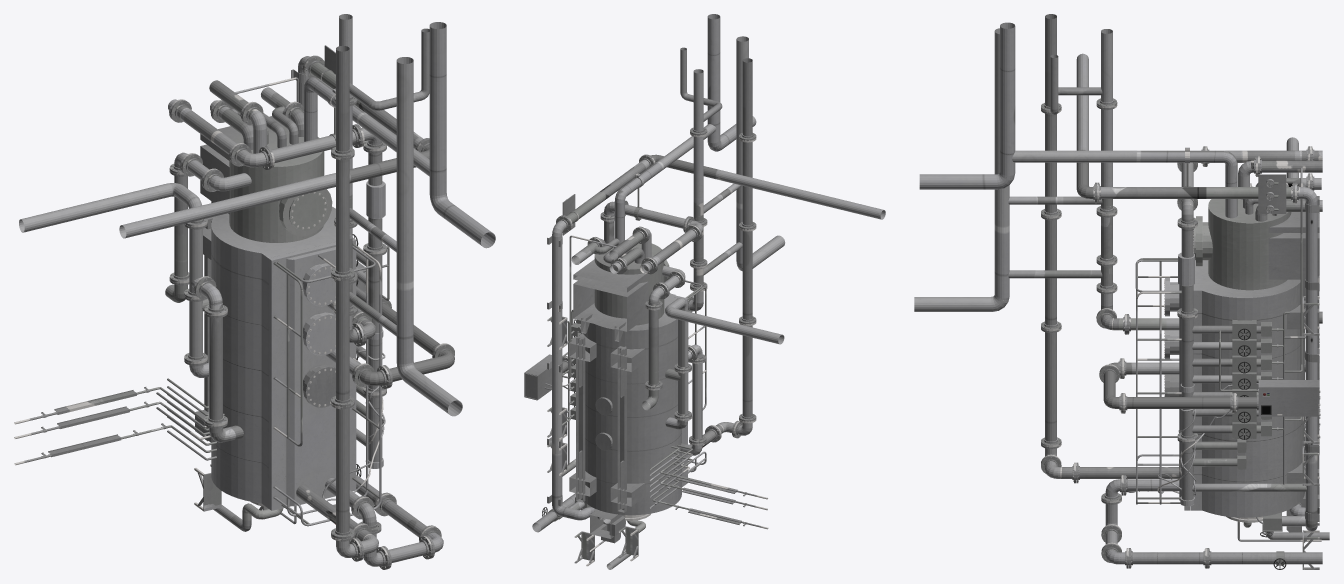
Rendered from Main_Machine_01.obj.
The picture shows the model from 3 angles, left to right: view 1: azimuth 30°, elevation 25°; view 2: azimuth 150°, elevation 25°; view 3: azimuth 270°, elevation 25°; orthographic projection. The views are drawn at different scales.
Parts seen in each view (by area): view 1: Main_Machine_02, Main_Machine_01; view 2: Main_Machine_02, Main_Machine_01; view 3: Main_Machine_02, Main_Machine_01.
Part boxes in pixels (<box>): Main_Machine_02: <box>14,14,495,569</box>; Main_Machine_01: <box>195,45,385,510</box>; Main_Machine_02: <box>532,14,885,569</box>; Main_Machine_01: <box>524,194,687,543</box>; Main_Machine_02: <box>914,14,1329,569</box>; Main_Machine_01: <box>1164,174,1319,569</box>.
Bounding box in the file's own units: 7.11 × 11.78 × 8.22.
Materials: 1 (1 with a texture image).
